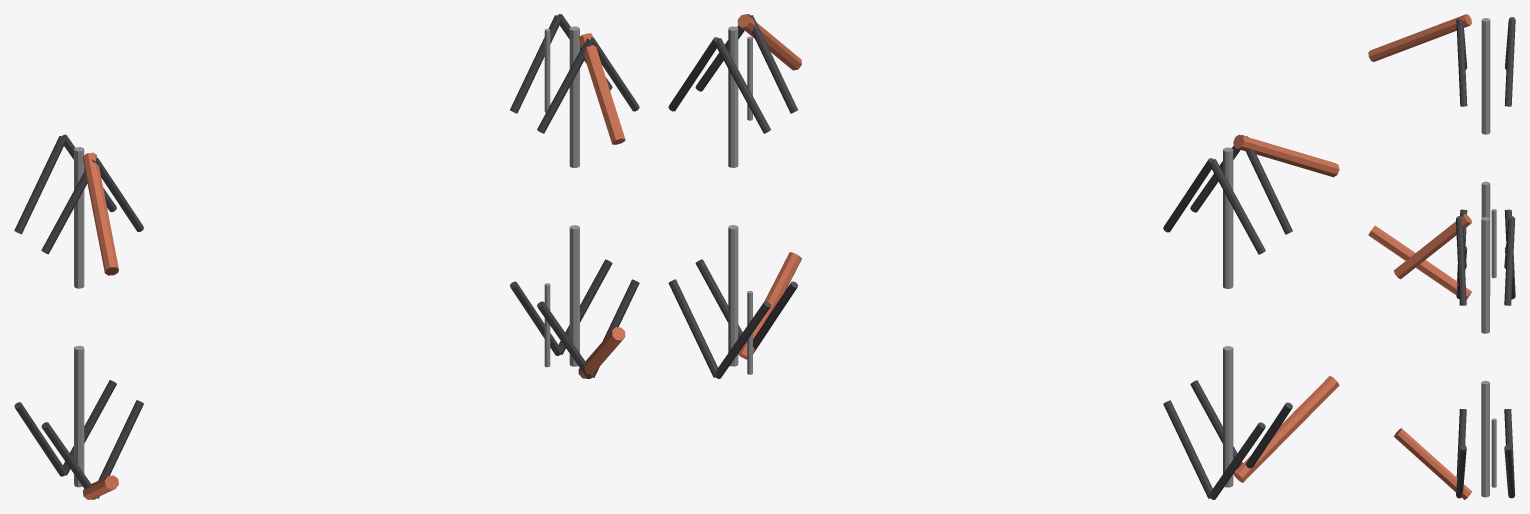
The model's file is buggy_suspension.glb.
3 renders of one model, left to right at view 1: azimuth 30°, elevation 25°; view 2: azimuth 150°, elevation 25°; view 3: azimuth 270°, elevation 25°, orthographic. The views are drawn at different scales.
Visible parts, largest first — view 1: part18, part4, part25, part13, part6, part19, part17, part1, part11, part3, part15, part20 (+5 smaller); view 2: part24, part18, part13, part25, part19, part6, part11, part4, part3, part17, part22, part9 (+6 smaller); view 3: part18, part24, part19, part11, part6, part13, part4, part2, part16, part0, part14, part25 (+6 smaller).
Part boxes in pixels (x1,y1,x2,y2): part18: [83, 152, 118, 275]; part4: [578, 33, 625, 144]; part25: [74, 345, 84, 487]; part13: [569, 225, 579, 366]; part6: [569, 26, 579, 167]; part19: [74, 147, 84, 288]; part17: [14, 136, 65, 234]; part1: [537, 38, 592, 133]; part11: [578, 327, 625, 378]; part3: [510, 15, 560, 113]; part15: [41, 159, 96, 254]; part20: [97, 400, 143, 498]; part24: [1233, 376, 1339, 482]; part18: [1233, 134, 1339, 177]; part13: [728, 225, 738, 366]; part25: [1223, 346, 1233, 487]; part19: [1223, 147, 1233, 288]; part6: [728, 26, 738, 167]; part11: [738, 252, 801, 359]; part4: [737, 14, 801, 70]; part3: [715, 38, 770, 133]; part17: [1210, 159, 1265, 254]; part22: [1163, 400, 1212, 498]; part9: [668, 279, 717, 377]; part18: [1368, 14, 1471, 61]; part24: [1368, 225, 1471, 299]; part19: [1481, 18, 1490, 134]; part11: [1393, 428, 1471, 499]; part6: [1481, 217, 1489, 333]; part13: [1481, 380, 1489, 497]; part4: [1393, 214, 1472, 279]; part2: [1504, 218, 1515, 305]; part16: [1504, 19, 1515, 106]; part0: [1456, 218, 1466, 305]; part14: [1456, 19, 1467, 106]; part25: [1481, 181, 1490, 296].
Bounding box in the file's own units: 3.25 × 1.81 × 0.8447.
